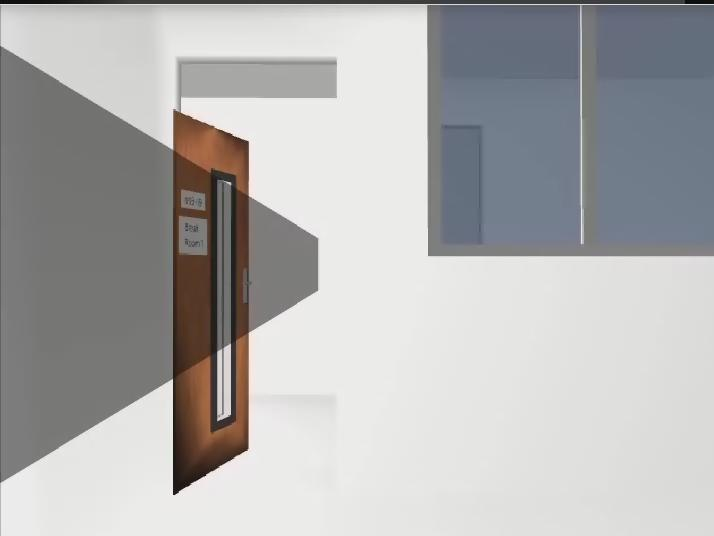door: (174, 109, 249, 495)
